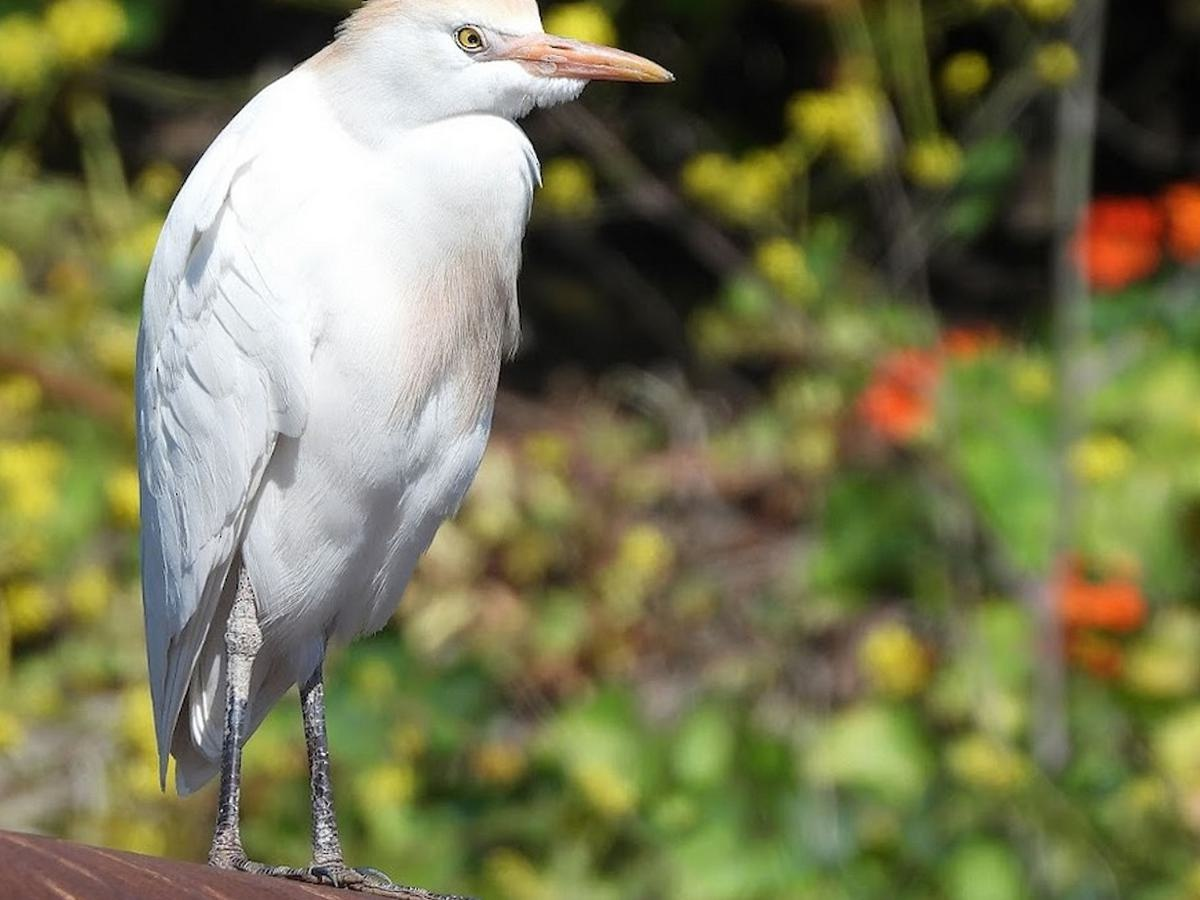egret: (66, 2, 674, 879)
